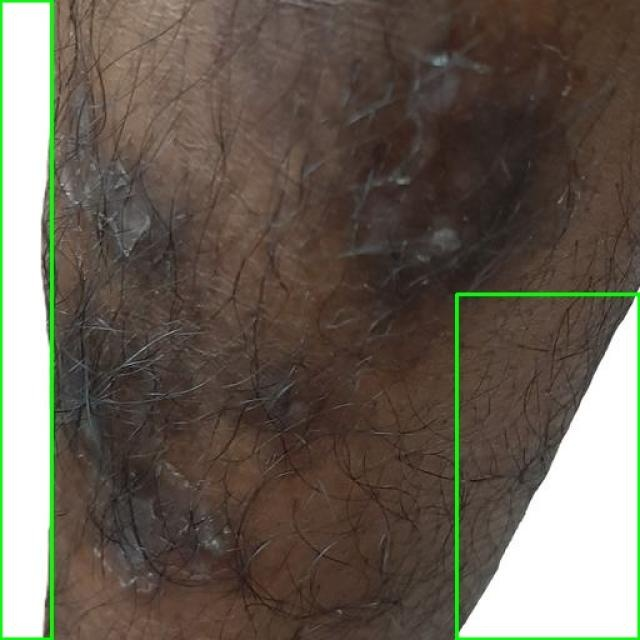Eczema: (456, 294, 639, 639), (0, 0, 51, 639)
